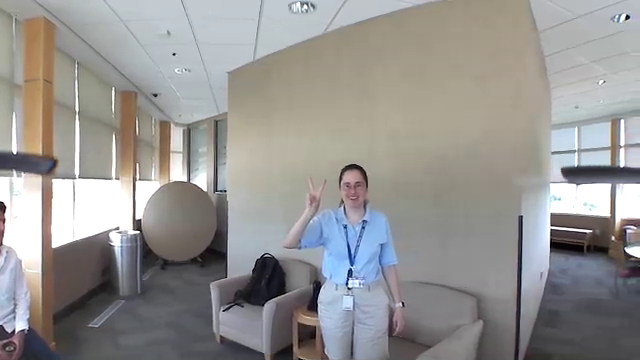peace: (301, 176, 329, 216)
